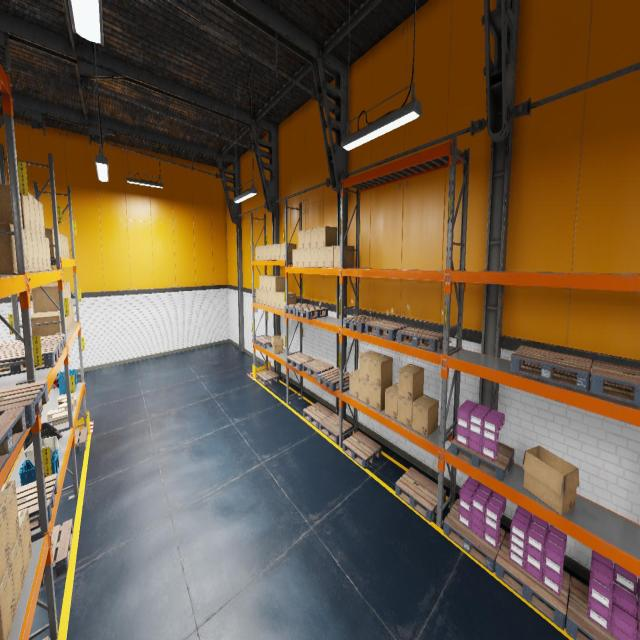box: (522, 446, 579, 515), (0, 479, 20, 557), (0, 184, 31, 232), (0, 558, 15, 639), (10, 531, 24, 612), (412, 395, 439, 437), (18, 507, 32, 579), (398, 364, 424, 401), (32, 284, 65, 312), (0, 223, 17, 274), (0, 502, 10, 587), (398, 394, 422, 428), (370, 354, 392, 387), (359, 350, 381, 382), (31, 313, 61, 336), (369, 381, 392, 411), (46, 283, 70, 305), (49, 282, 71, 305), (385, 383, 398, 420), (334, 245, 354, 268), (318, 226, 337, 247), (44, 228, 56, 258), (26, 230, 34, 272), (28, 192, 36, 234), (32, 232, 40, 272), (43, 284, 67, 297), (33, 197, 41, 235), (349, 370, 359, 400), (36, 234, 44, 270), (359, 377, 369, 405), (280, 292, 296, 309), (280, 243, 296, 260), (23, 229, 29, 272), (52, 410, 68, 426), (47, 407, 65, 421), (38, 201, 45, 237), (58, 396, 74, 411), (41, 237, 48, 270), (271, 335, 283, 354), (271, 276, 285, 292), (57, 393, 73, 406), (276, 292, 289, 308), (45, 237, 51, 270), (263, 276, 275, 290), (326, 246, 334, 267), (267, 276, 278, 291), (259, 275, 270, 290), (318, 247, 325, 267), (311, 228, 318, 248), (62, 396, 77, 405), (311, 248, 318, 267), (304, 229, 311, 248), (304, 248, 311, 267), (30, 311, 60, 315), (298, 230, 304, 248), (298, 249, 304, 267), (60, 233, 64, 258), (293, 249, 298, 267), (64, 236, 68, 258), (275, 243, 280, 260), (66, 237, 70, 258), (271, 292, 276, 308), (59, 232, 62, 258), (63, 235, 66, 258), (70, 304, 73, 327), (71, 302, 74, 324), (263, 290, 267, 306), (271, 244, 275, 260), (268, 291, 272, 306), (267, 245, 271, 260), (262, 245, 266, 260), (259, 290, 263, 304), (259, 246, 263, 260), (255, 246, 259, 260), (65, 316, 68, 334), (69, 305, 71, 329), (256, 288, 259, 302), (67, 316, 69, 332)
pallets: (495, 532, 570, 630), (566, 576, 638, 640), (444, 499, 506, 572), (510, 346, 592, 391), (451, 436, 514, 482), (395, 467, 446, 522), (16, 473, 58, 531), (0, 381, 49, 428), (590, 360, 640, 406), (41, 518, 73, 586), (0, 341, 60, 376), (0, 406, 26, 472), (342, 431, 382, 469), (0, 334, 66, 354), (397, 327, 443, 352), (318, 413, 352, 443), (365, 319, 410, 341), (303, 402, 334, 428), (318, 368, 350, 391), (343, 315, 382, 333), (302, 358, 333, 380), (69, 426, 88, 455), (286, 353, 315, 371), (296, 306, 328, 319), (284, 304, 314, 316), (257, 370, 279, 386), (255, 336, 272, 348), (42, 636, 49, 640)
